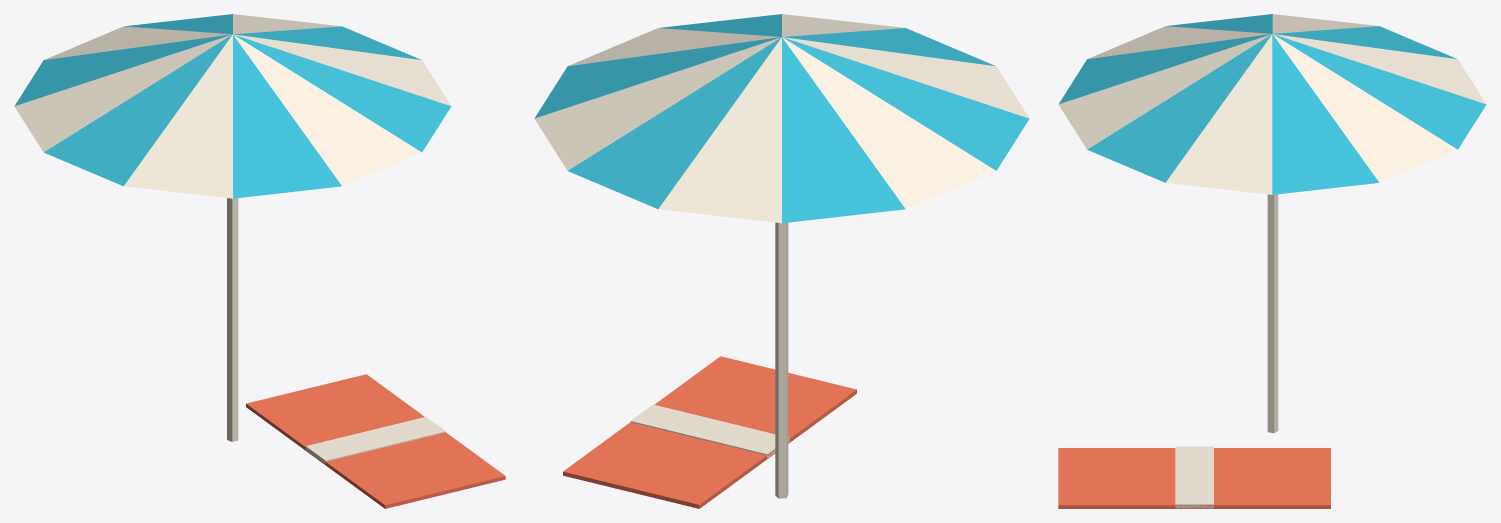
Rendered from prop_beach_umbrella.glb.
3 renders of one model, left to right at view 1: azimuth 30°, elevation 25°; view 2: azimuth 150°, elevation 25°; view 3: azimuth 270°, elevation 25°, orthographic. The views are drawn at different scales.
Parts seen in each view (by area): view 1: prop_beach_umbrella; view 2: prop_beach_umbrella; view 3: prop_beach_umbrella.
Part boxes in pixels (x1,y1,x2,y2): prop_beach_umbrella: (14,14,505,508); prop_beach_umbrella: (534,14,1029,508); prop_beach_umbrella: (1058,14,1486,508).
Bounding box in the file's own units: 2.2 × 2.25 × 2.2.
